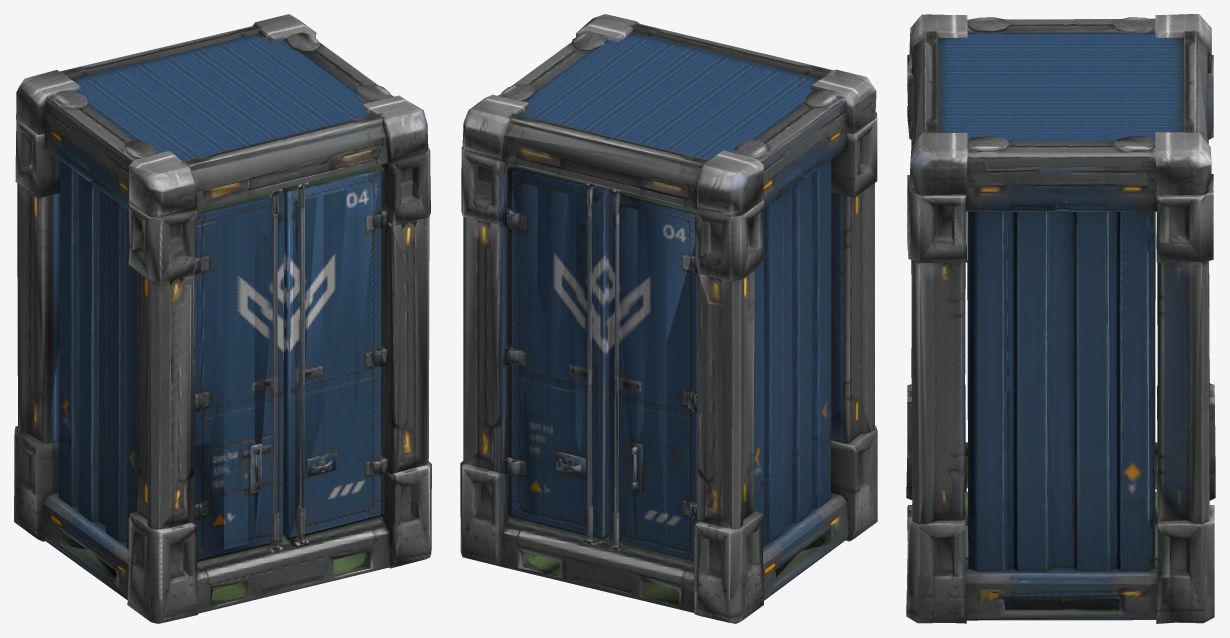
Rendered from crate_tall_blue.glb.
3 views of the same model, side by side, from view 1: azimuth 30°, elevation 25°; view 2: azimuth 150°, elevation 25°; view 3: azimuth 270°, elevation 25° (orthographic). The views are drawn at different scales.
Visible parts, largest first — view 1: mesh_node; view 2: mesh_node; view 3: mesh_node.
Part boxes in pixels (<box>): mesh_node: <box>14,14,431,623</box>; mesh_node: <box>460,14,877,623</box>; mesh_node: <box>906,14,1215,623</box>.
Size of the model in its own units: 1.64 by 2.5 by 1.48.
1 material, 1 textured.
